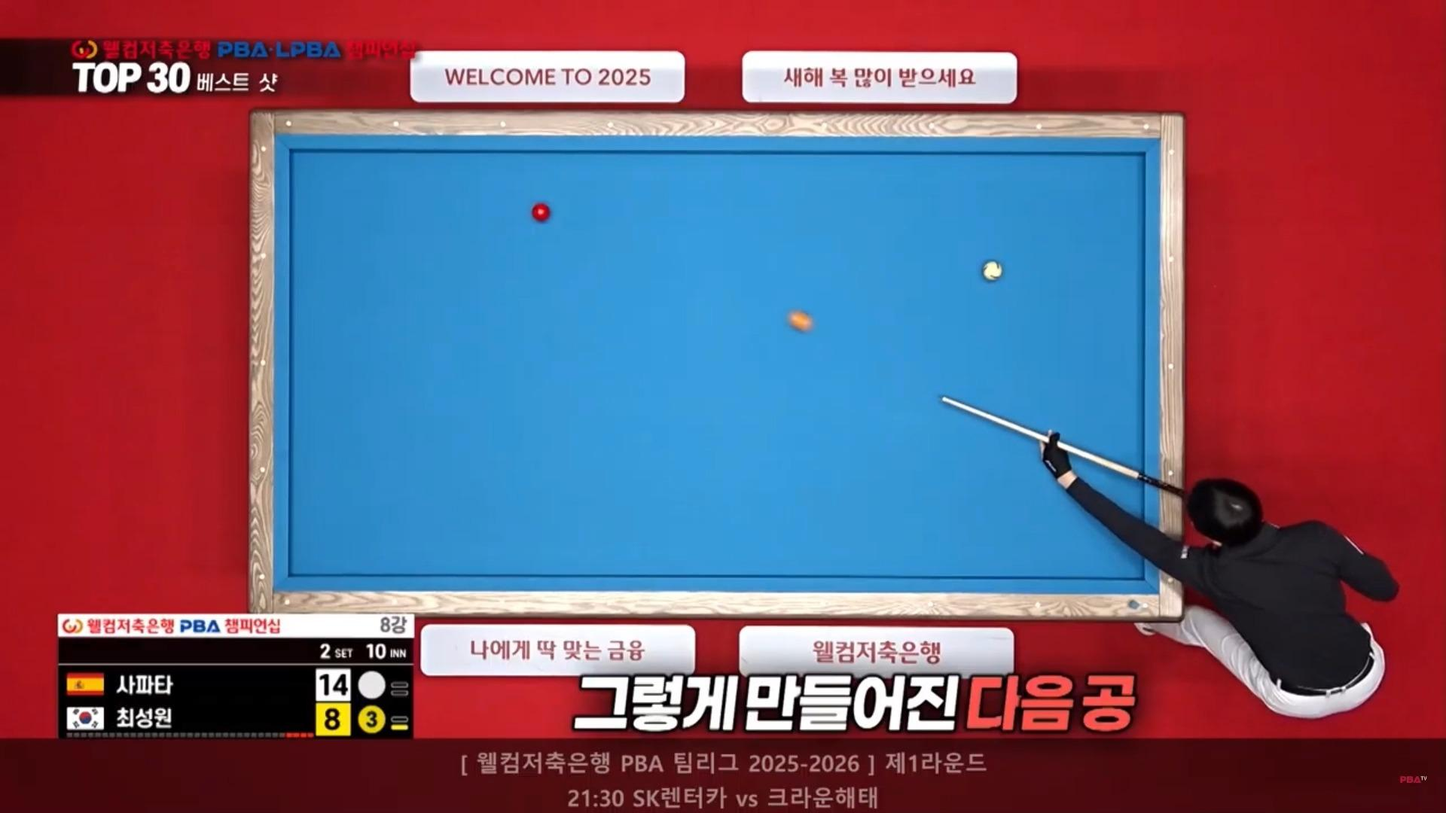Red: (533, 205, 555, 223)
White: (979, 261, 1004, 281)
billiard-ball-Yellow: (785, 310, 816, 333)
